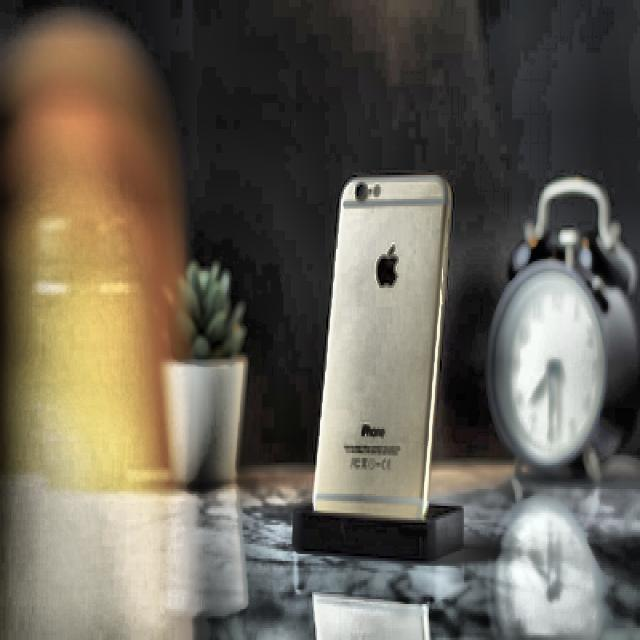Phone: (310, 174, 452, 516)
